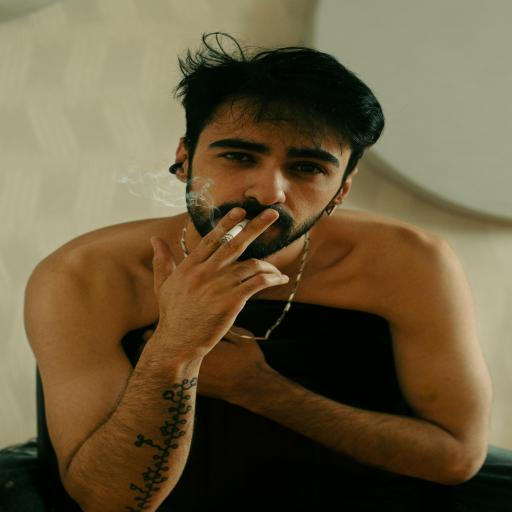terdeteksi merokok: (190, 118, 321, 252)
